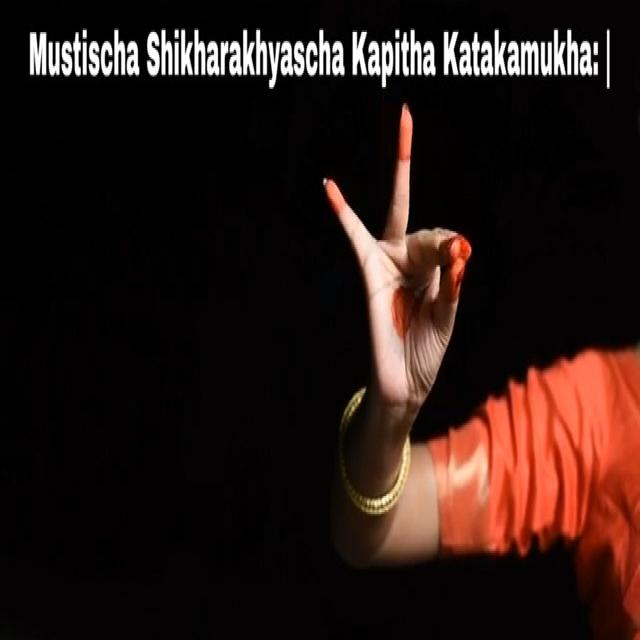Katakamukha: (314, 96, 498, 404)
bangle: (326, 423, 416, 524)
text: (24, 28, 620, 91)
